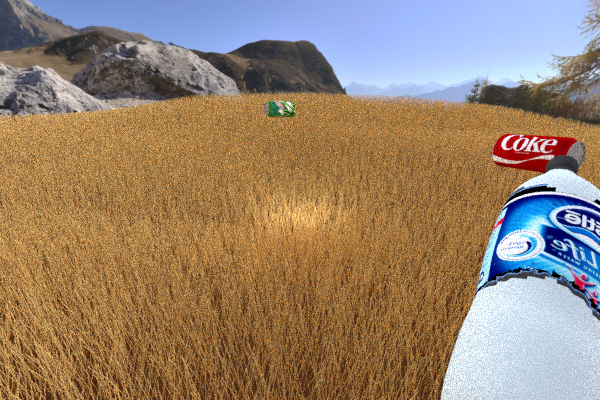bottle: (440, 155, 600, 400)
can: (492, 133, 586, 175), (264, 100, 295, 117)
